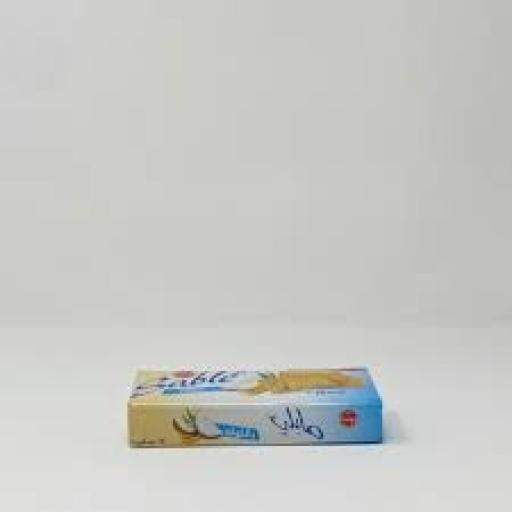sable: (94, 324, 445, 482)
